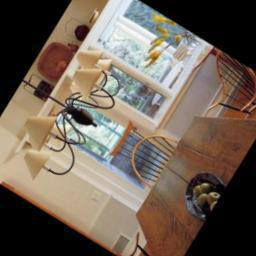Puerta: (39, 82, 174, 201)
